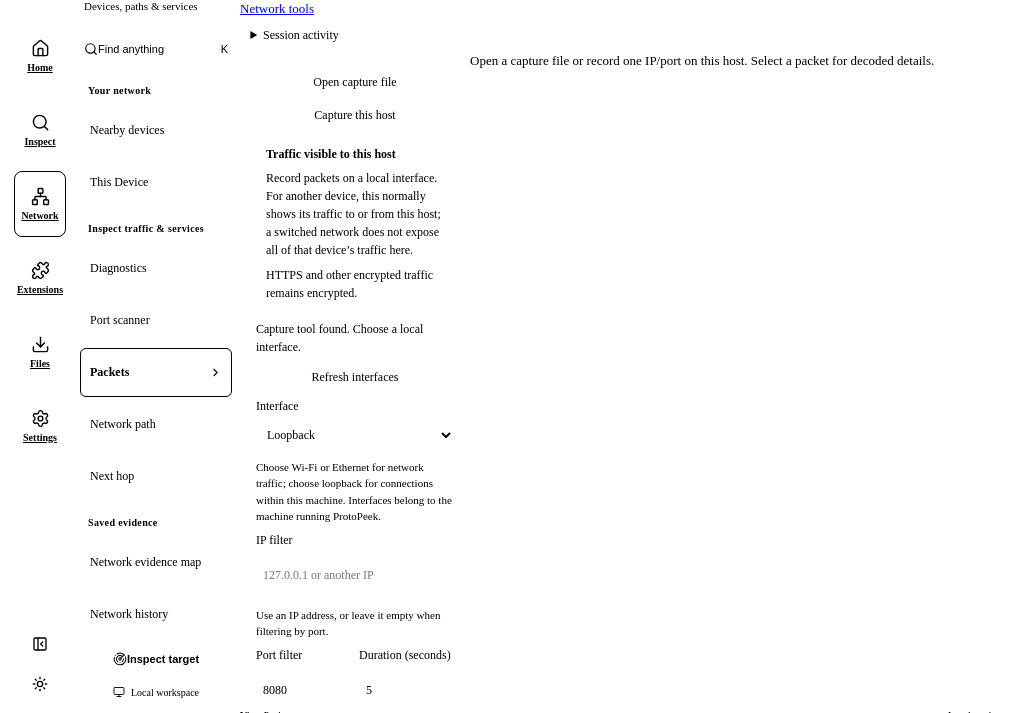
it: blocks invalid capture duration before starting a capture
The width and height of the screenshot is (1024, 713).
Replace the text in the number field labelled "Duration (seconds)" with "31" at (406, 691), box [359,668,454,712]
(page scrolled)
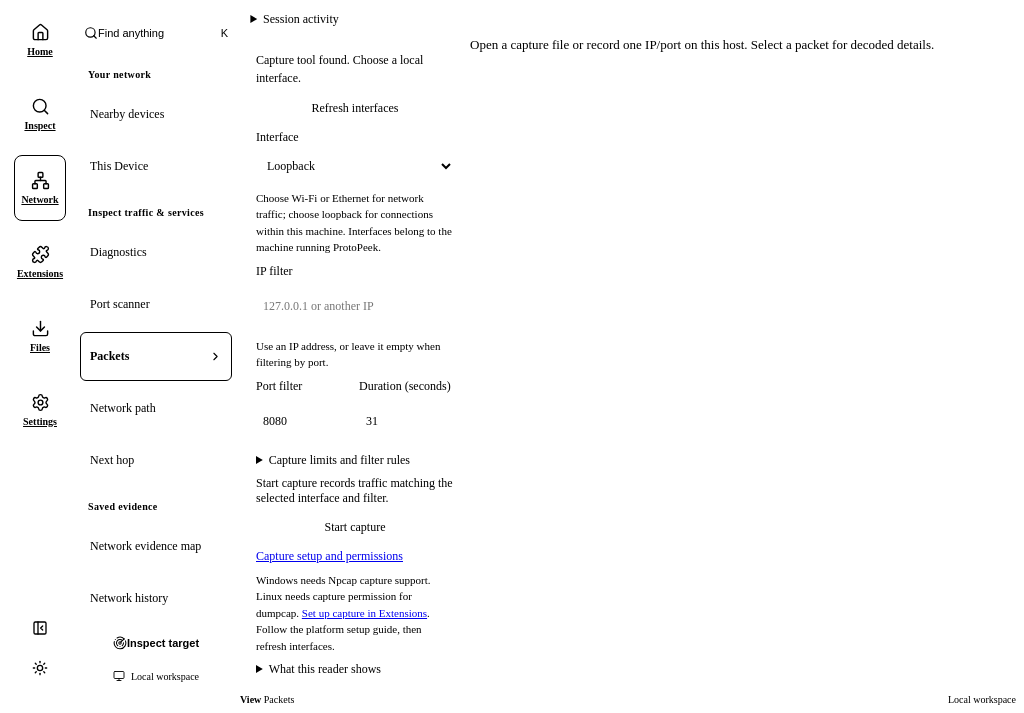
Click the button "Start capture" at (355, 528), box [256,514,454,541]
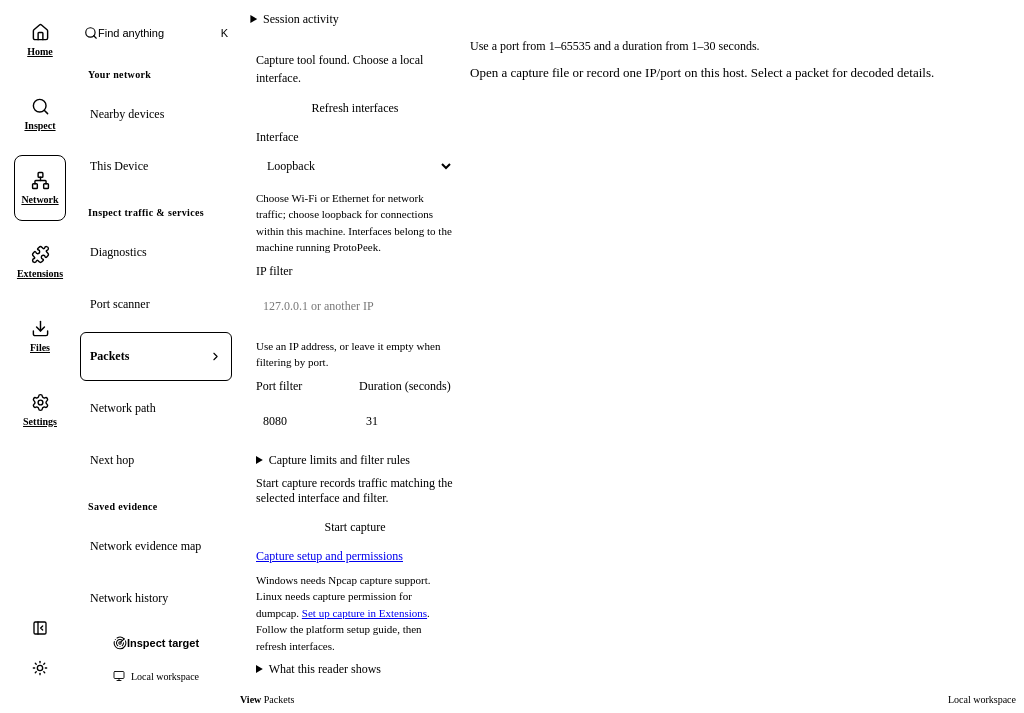
Now the message "Use a port from 1–65535 and a duration from 1–30 seconds." is shown, box [470,39,760,53]
